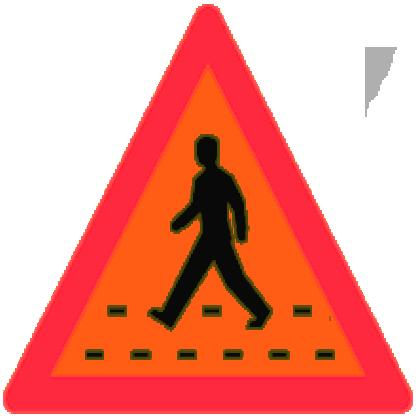Pedestrian Crossing: (26, 24, 398, 398)
